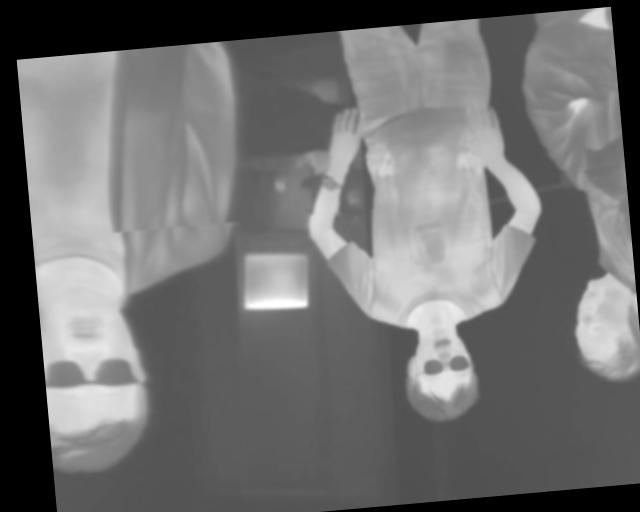face: (37, 286, 157, 477), (401, 322, 481, 426)
